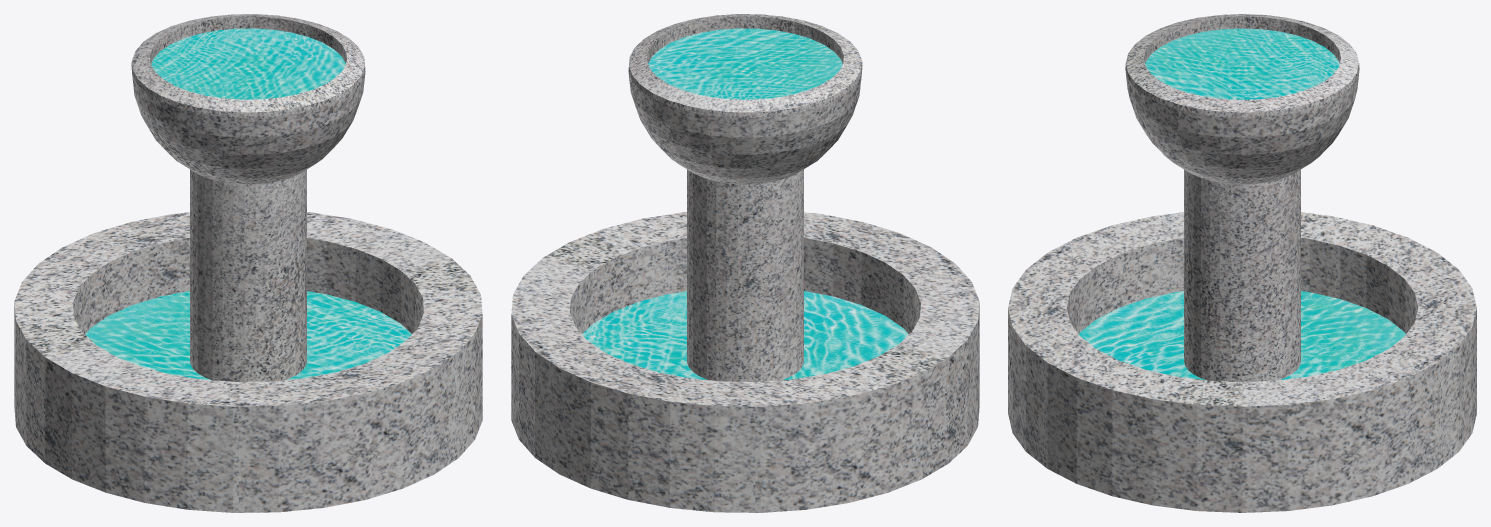
File: Fuente.fbx
3 renders of one model, left to right at view 1: azimuth 30°, elevation 25°; view 2: azimuth 150°, elevation 25°; view 3: azimuth 270°, elevation 25°, orthographic.
Parts seen in each view (by area): view 1: Cylinder.002; view 2: Cylinder.002; view 3: Cylinder.002.
Part boxes in pixels (left/top/right/bottom): Cylinder.002: left=14, top=14, right=482, bottom=512; Cylinder.002: left=511, top=14, right=979, bottom=512; Cylinder.002: left=1008, top=14, right=1476, bottom=512.
Bounding box in the file's own units: 35.53 × 29.75 × 35.53.
5 materials, 5 textured.
